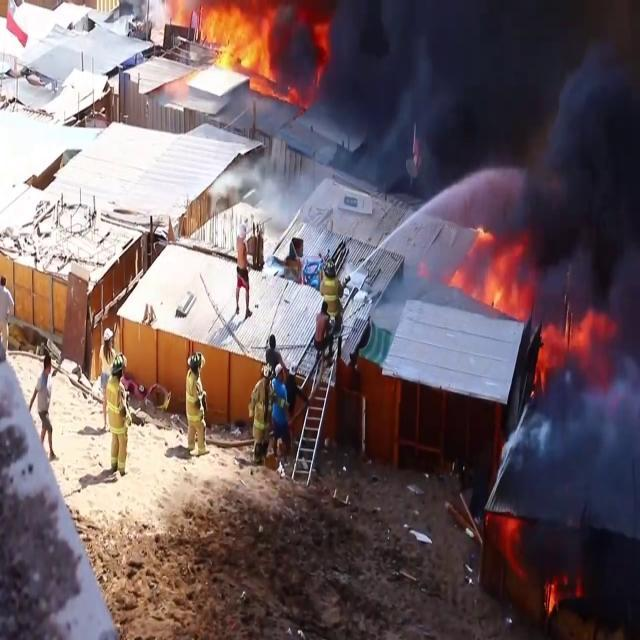Fire: (192, 1, 282, 92), (449, 232, 533, 320), (532, 303, 598, 393)
Smoke: (282, 0, 640, 174)
